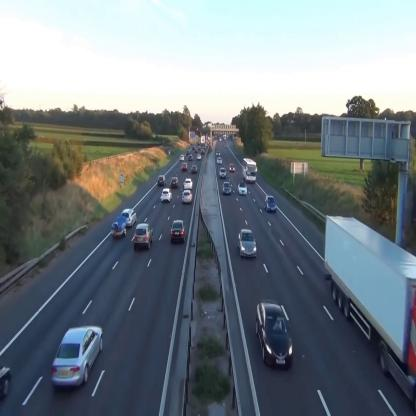car: (51, 325, 103, 389), (256, 300, 294, 370), (238, 229, 257, 258), (134, 223, 153, 250), (171, 219, 187, 242), (123, 208, 136, 226), (264, 195, 277, 212), (161, 188, 172, 204), (238, 181, 248, 197), (222, 181, 232, 195), (182, 190, 192, 202), (170, 177, 179, 188), (158, 174, 166, 186), (184, 178, 192, 189), (219, 167, 226, 179), (229, 162, 235, 172), (191, 164, 197, 172), (182, 162, 187, 171), (217, 156, 222, 164), (180, 154, 184, 160), (197, 154, 200, 160), (189, 156, 192, 160)
lorry: (323, 210, 416, 399), (242, 156, 257, 182)
